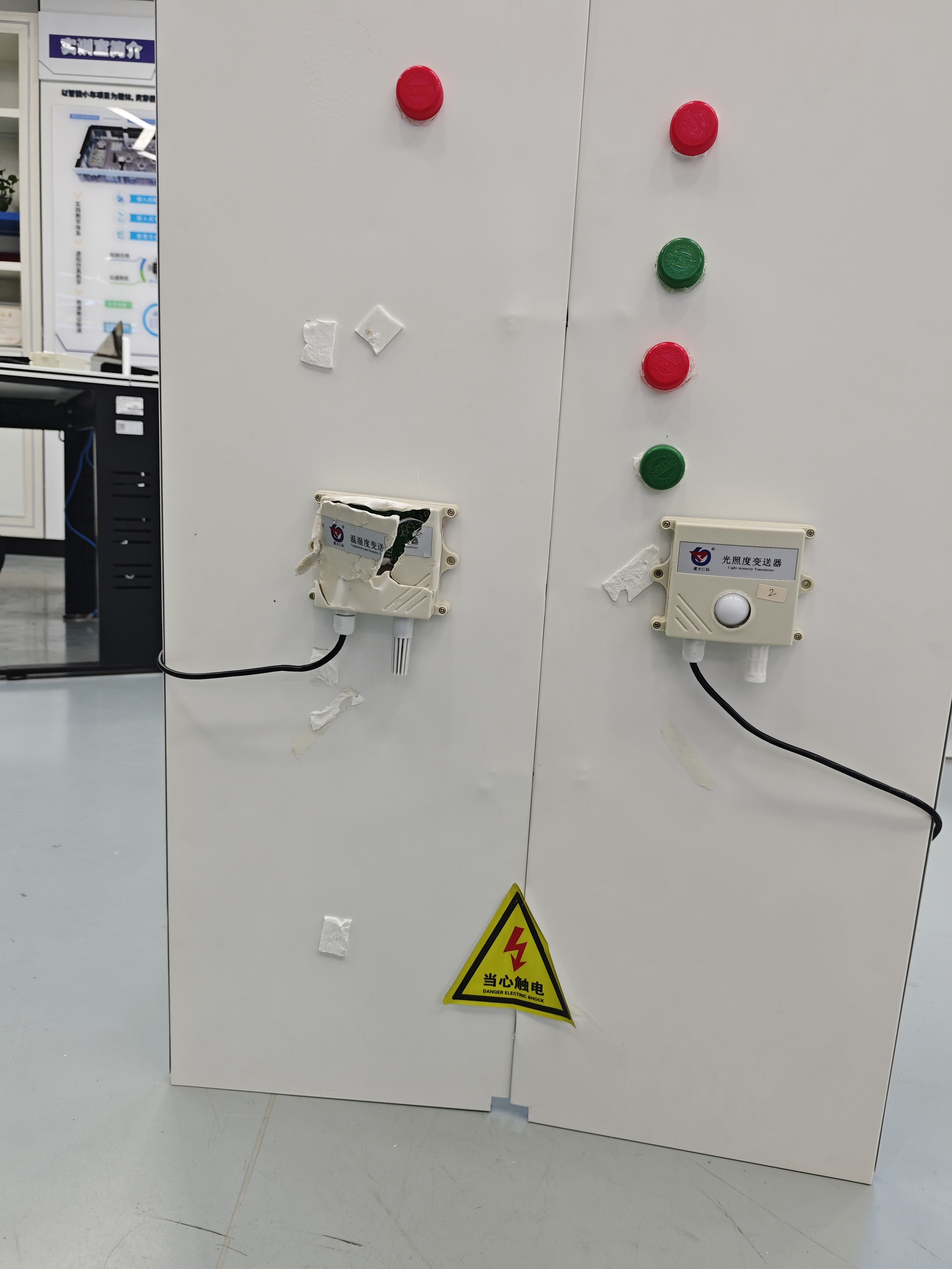red_warning: (620, 326, 756, 411), (379, 46, 483, 156), (639, 85, 744, 190)
sensor_damage: (286, 460, 479, 700)
